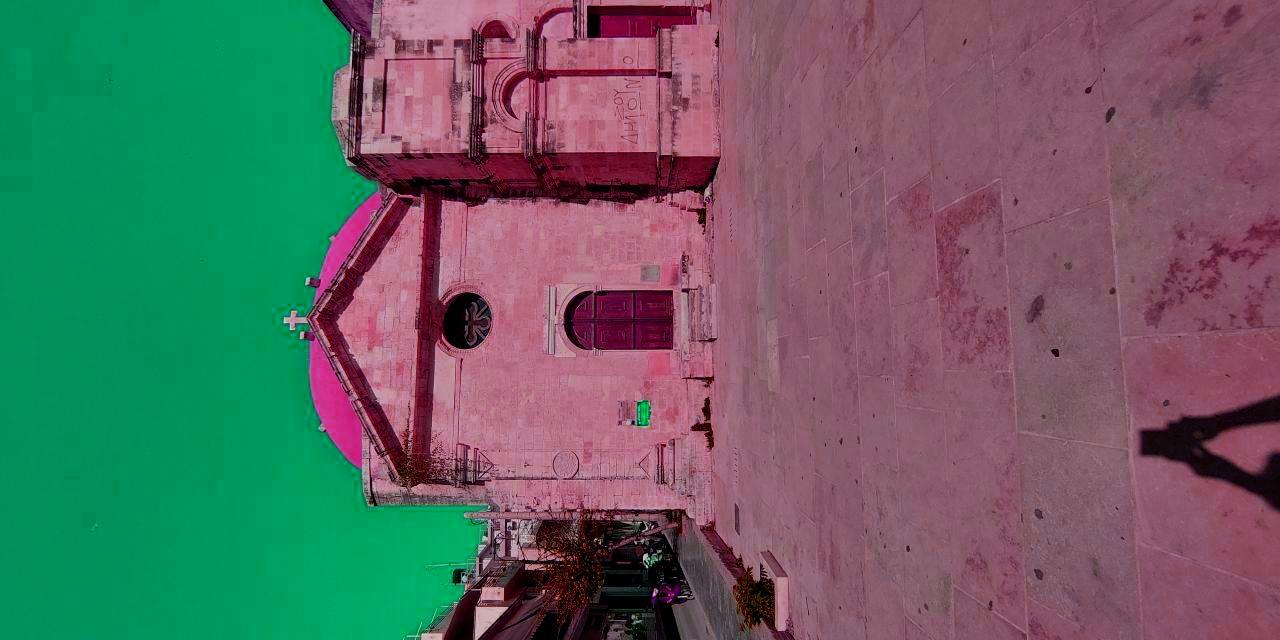Agia Aikaterini: (292, 174, 708, 514)
